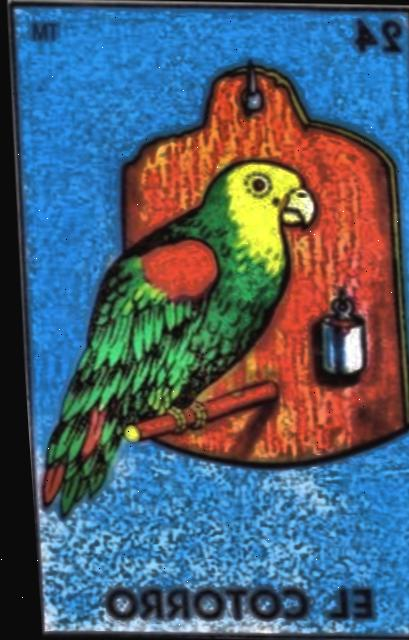El Cotorro: (0, 2, 409, 640)
